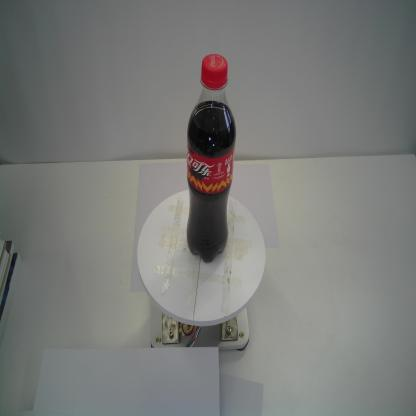Drink: (184, 53, 238, 265)
